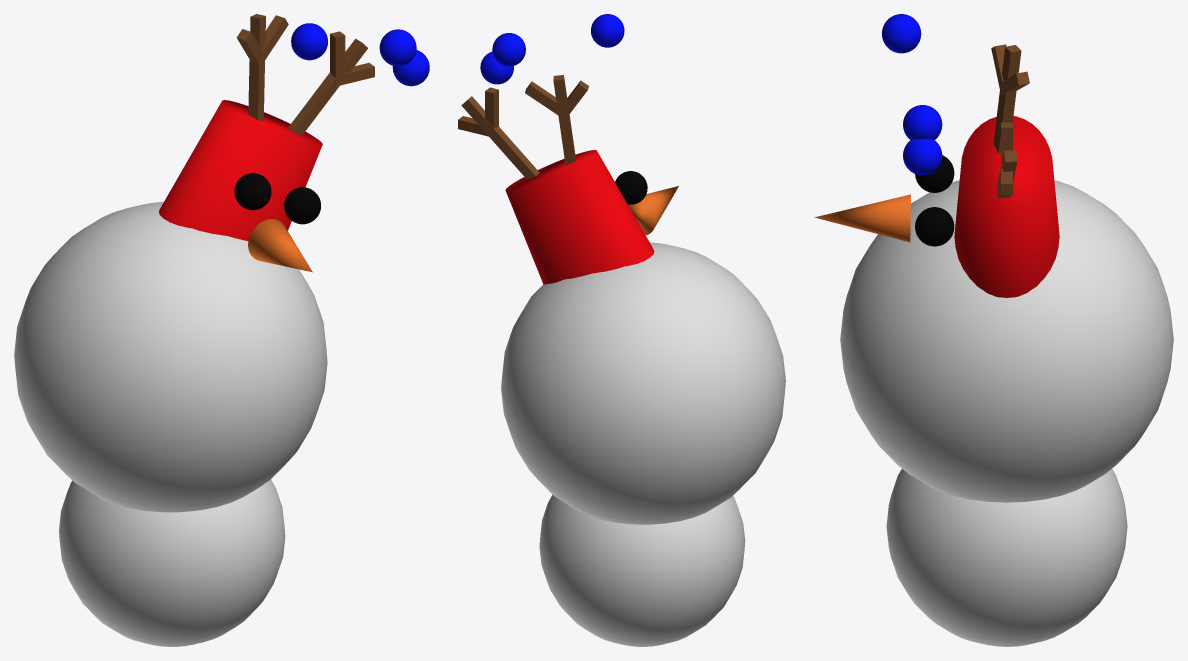
The picture shows the model from 3 angles, left to right: view 1: azimuth 30°, elevation 25°; view 2: azimuth 150°, elevation 25°; view 3: azimuth 270°, elevation 25°; orthographic projection. The views are drawn at different scales.
Visible parts, largest first — view 1: 球.001, 球, 円柱, 立方体.004, 立方体, 円錐, 球.002, 球.006, 球.003, 球.005, 球.004; view 2: 球.001, 球, 円柱, 立方体.004, 立方体, 円錐, 球.006, 球.005, 球.002, 球.004; view 3: 球.001, 球, 円柱, 円錐, 立方体, 球.003, 球.005, 球.004, 球.006, 立方体.004, 球.002.
Part boxes in pixels (x1,y1,x2,y2): 球.001: (14, 201, 327, 512); 球: (59, 480, 285, 646); 円柱: (159, 100, 322, 240); 立方体.004: (288, 31, 374, 135); 立方体: (236, 14, 288, 120); 円錐: (248, 219, 312, 272); 球.002: (234, 173, 271, 210); 球.006: (379, 29, 416, 66); 球.003: (284, 187, 320, 224); 球.005: (291, 23, 327, 60); 球.004: (392, 50, 429, 86); 球.001: (501, 242, 785, 524); 球: (539, 495, 745, 646); 円柱: (505, 150, 654, 284); 立方体.004: (458, 87, 539, 179); 立方体: (525, 75, 588, 165); 円錐: (628, 186, 678, 235); 球.006: (492, 33, 525, 66); 球.005: (591, 14, 624, 47); 球.002: (615, 171, 647, 204); 球.004: (480, 51, 513, 84); 球.001: (840, 180, 1173, 502); 球: (886, 469, 1127, 646); 円柱: (954, 116, 1059, 297); 円錐: (814, 194, 910, 242); 立方体: (991, 44, 1029, 153); 球.003: (915, 207, 954, 246); 球.005: (882, 14, 921, 53); 球.004: (903, 139, 942, 175); 球.006: (903, 105, 942, 139); 立方体.004: (996, 122, 1017, 198); 球.002: (915, 155, 954, 192).
Size of the model in its own units: 3.59 by 6.09 by 2.98.
